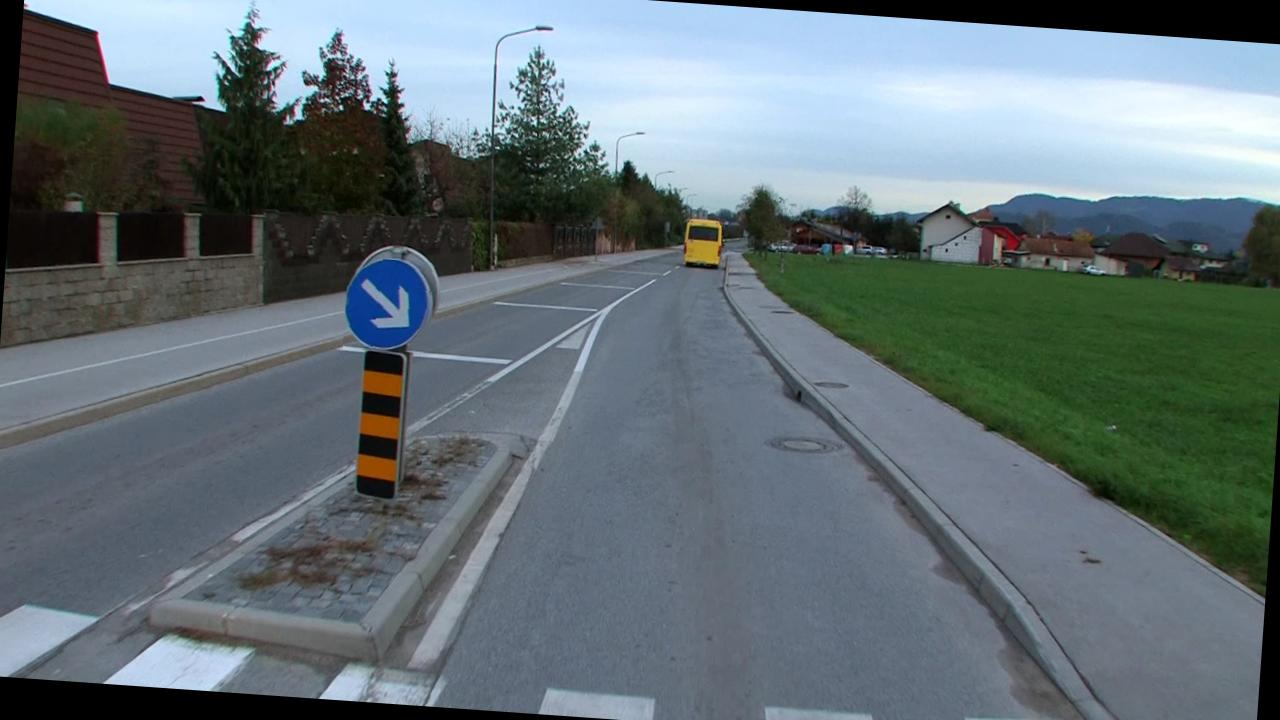Round: (342, 256, 434, 354)
